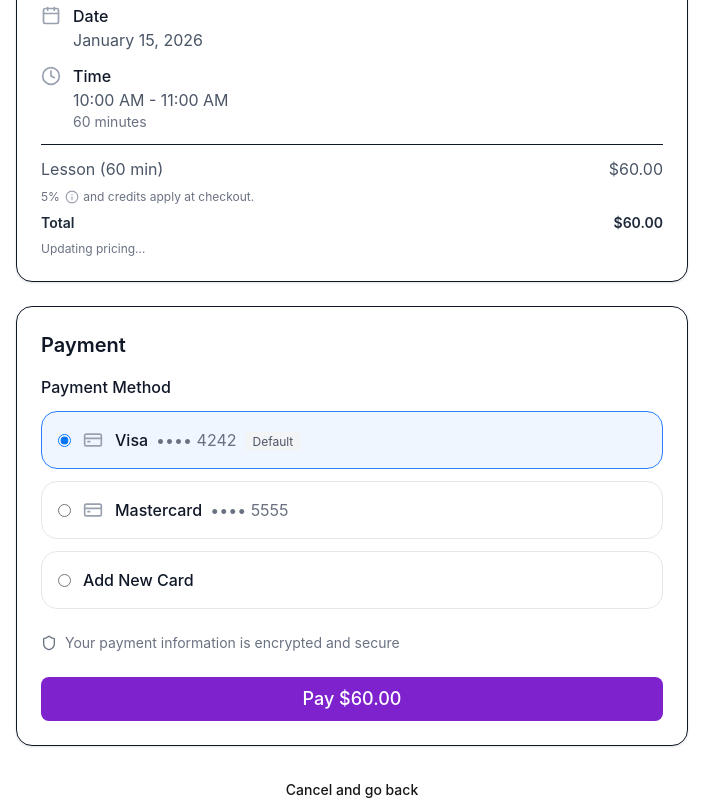
Test: CheckoutFlow › 3D Secure Flow › handles 3D Secure confirmation error
(page scrolled)
Expected: the text "Visa" is shown, [115,430,148,450]
Click the button "Pay $60.00".
click(352, 699)  # box [41,677,663,721]
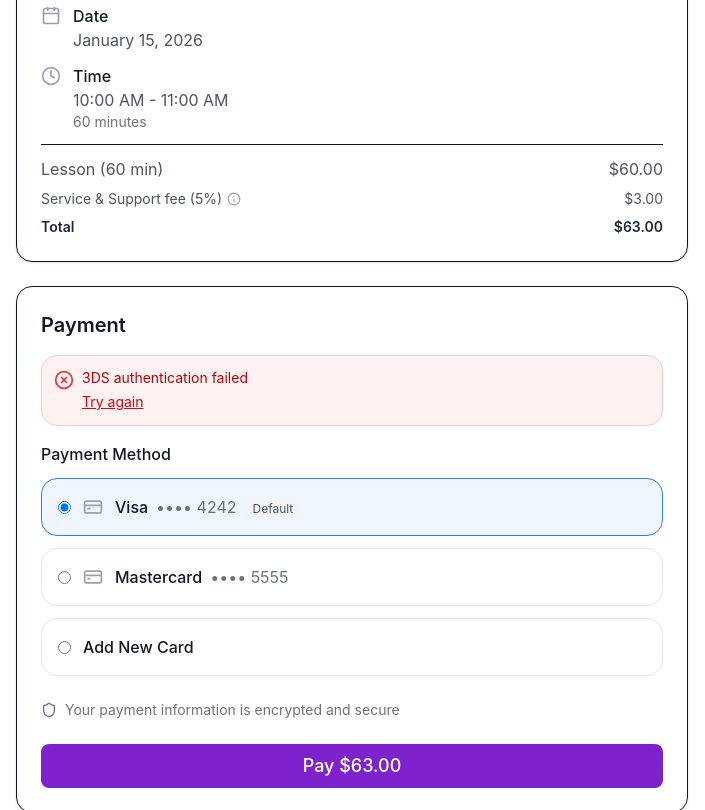
Expected: the text "3DS authentication failed" is shown, [82,369,248,386]
